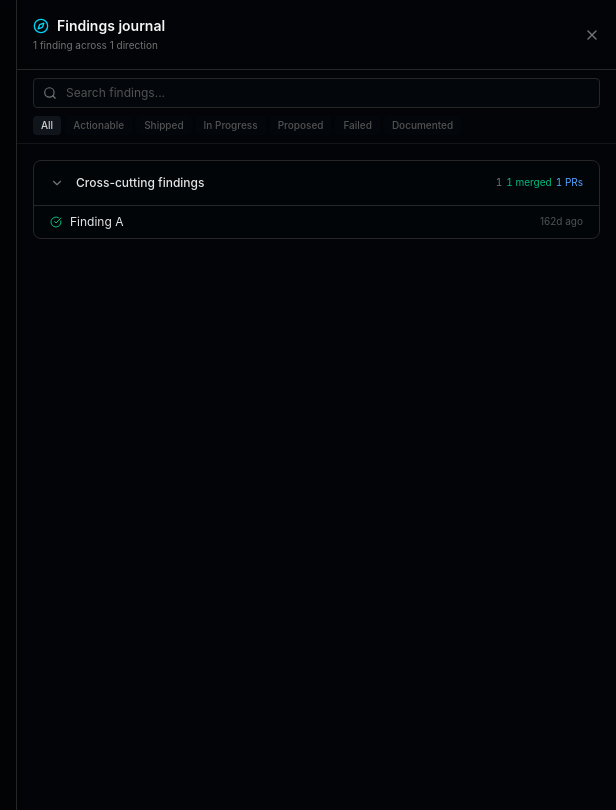
Test: ResearchBrowser evidence panel › surfaces a child task evaluation summary on the outcome row
Step 1. Click the text "Finding A" → (97, 221), box [70, 214, 123, 228]
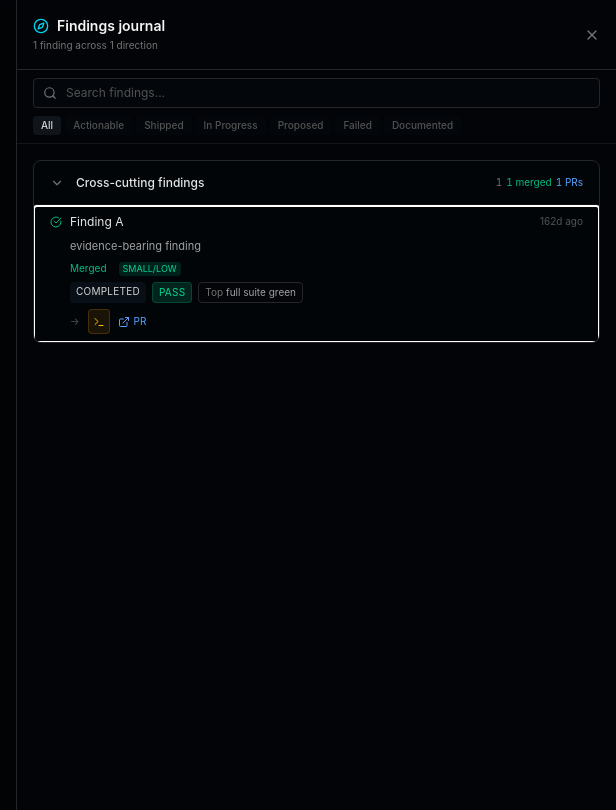
Result: the text "Pass" is shown at [152, 282, 192, 303]
Result: the text "Top full suite green" is shown at [198, 282, 303, 303]
